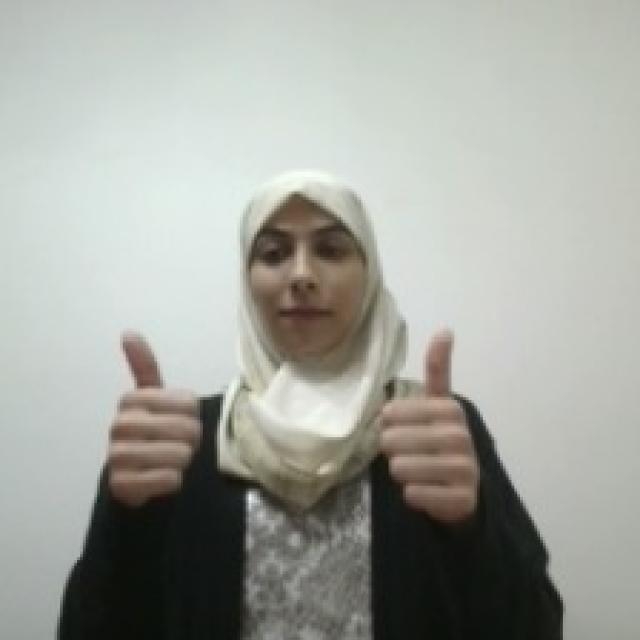fine: (374, 322, 486, 529), (102, 322, 208, 510)
